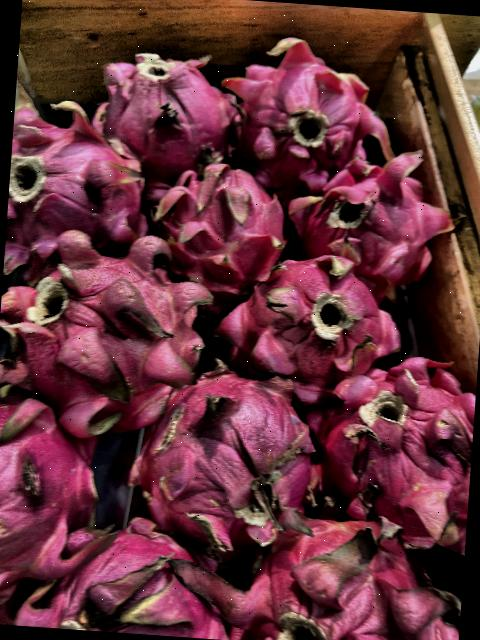buah-naga-matang: (0, 229, 203, 429), (128, 348, 326, 546), (305, 336, 479, 550), (231, 489, 467, 640), (20, 513, 246, 640), (4, 80, 152, 256), (224, 250, 402, 394), (220, 36, 404, 175), (0, 386, 104, 592), (281, 154, 448, 276), (88, 48, 239, 175), (150, 155, 286, 291)
